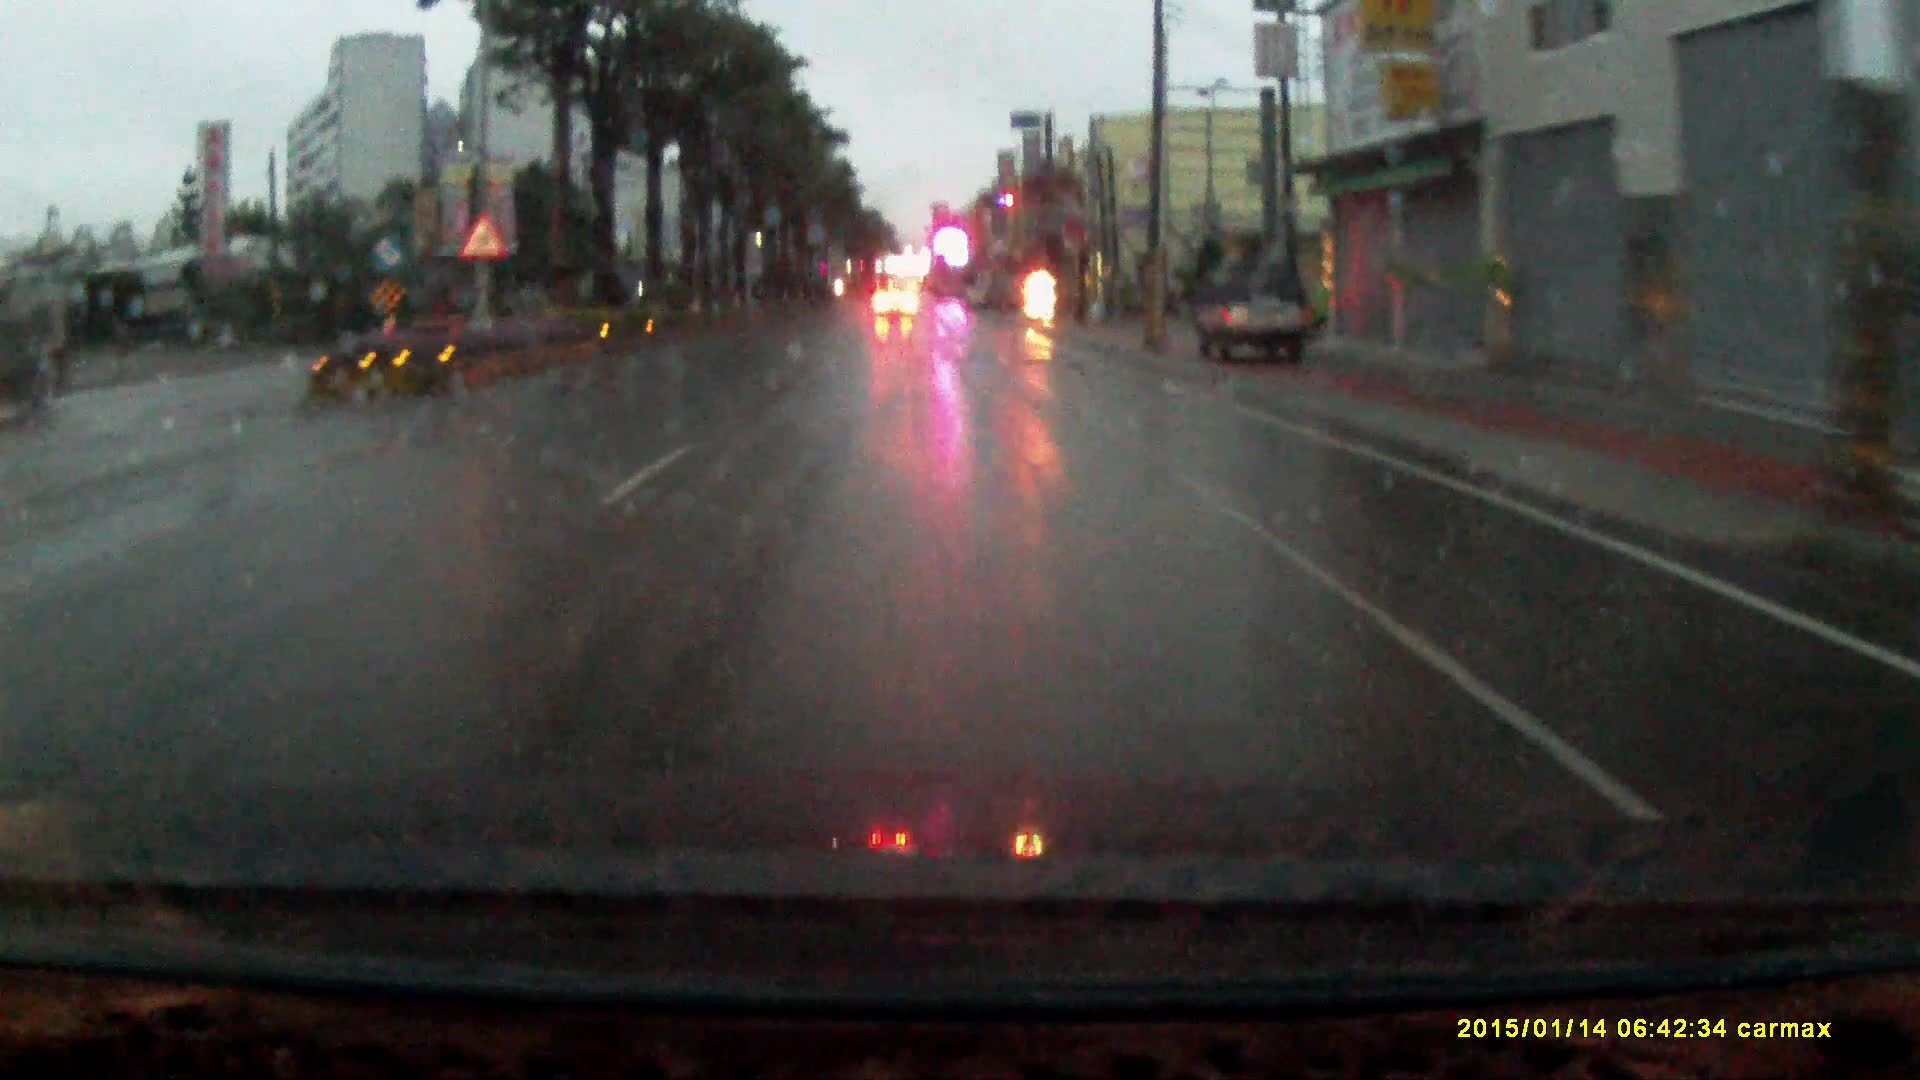vehicle: (1192, 257, 1317, 371), (1, 314, 69, 422), (872, 284, 918, 319)
